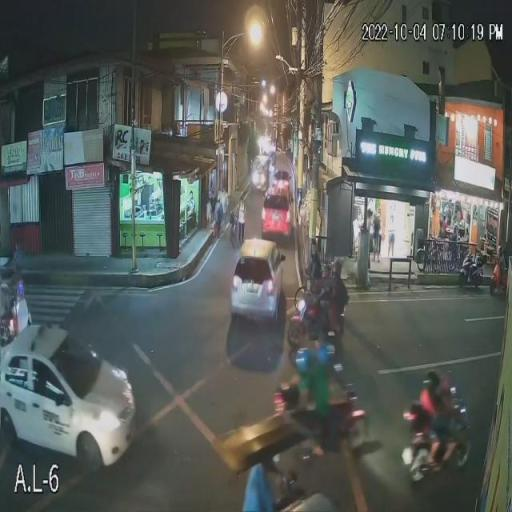helmet: (292, 345, 319, 374), (313, 340, 341, 365), (435, 368, 458, 395), (419, 369, 441, 392)
motorcycle: (268, 383, 370, 450), (402, 399, 472, 490)
rider: (286, 372, 328, 452), (317, 364, 356, 450), (413, 390, 446, 477), (437, 389, 467, 474)
